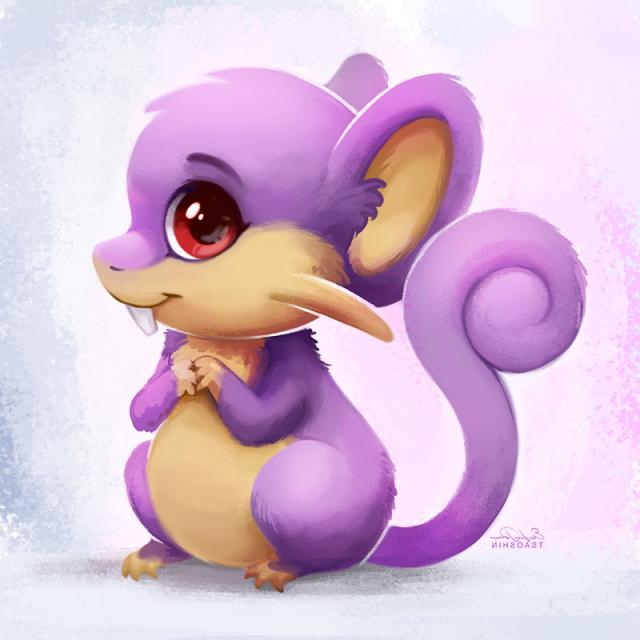Rattata: (101, 51, 491, 592)
